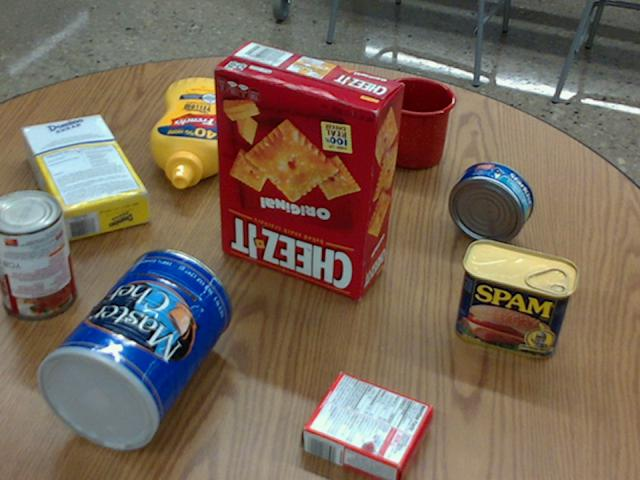cracker_box: (214, 41, 404, 298)
gelatin_box: (301, 371, 433, 479)
large_marker: (293, 99, 332, 156)
master_chef_can: (38, 248, 231, 450)
mug: (374, 77, 455, 169)
mustard_bottle: (149, 78, 243, 187)
potted_meat_can: (455, 240, 578, 357)
sugar_box: (20, 110, 149, 242)
tomato_soup_can: (0, 188, 76, 318)
tuna_fish_can: (447, 161, 532, 243)
